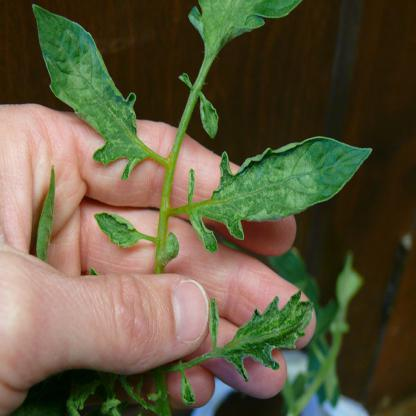tomato leaf mosaic virus: (177, 137, 373, 261), (28, 9, 149, 184), (209, 288, 318, 377)
